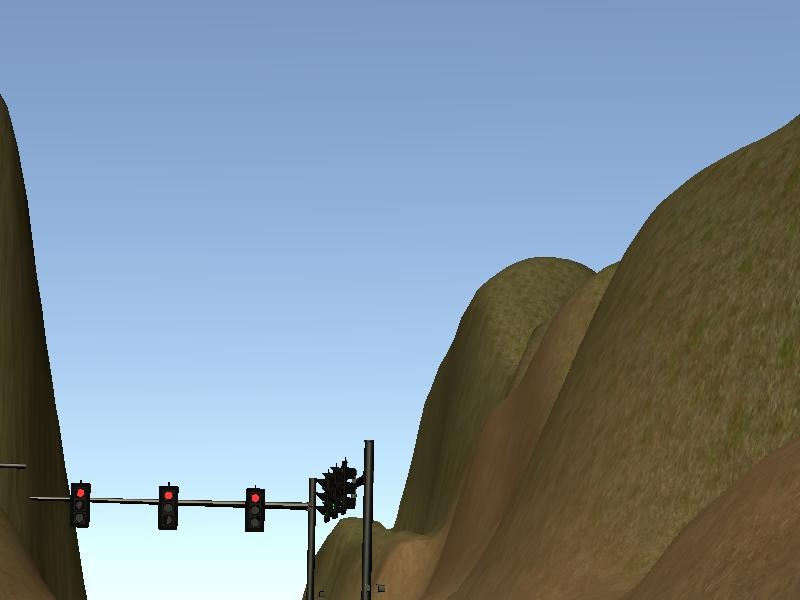traffic_light_red: (67, 479, 300, 535)
